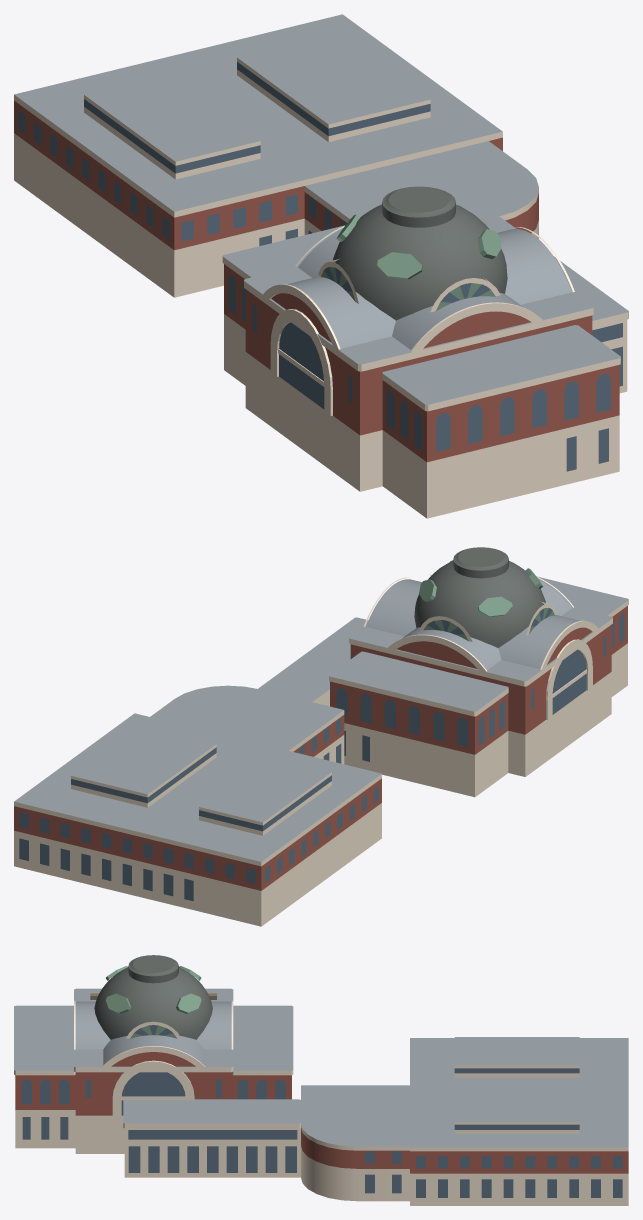
Rendered from sea-tacoma-union-station.glb.
3 renders of one model, top to bottom at view 1: azimuth 30°, elevation 25°; view 2: azimuth 150°, elevation 25°; view 3: azimuth 270°, elevation 25°, orthographic. The views are drawn at different scales.
Parts seen in each view (by area): view 1: Tacoma Union Station; view 2: Tacoma Union Station; view 3: Tacoma Union Station.
Boxes of the visible parts, x1,y1,x2,y2 form: Tacoma Union Station: [14, 14, 628, 518]; Tacoma Union Station: [14, 547, 628, 926]; Tacoma Union Station: [14, 955, 628, 1205].
Bounding box in the file's own units: 68.96 × 37.42 × 138.
